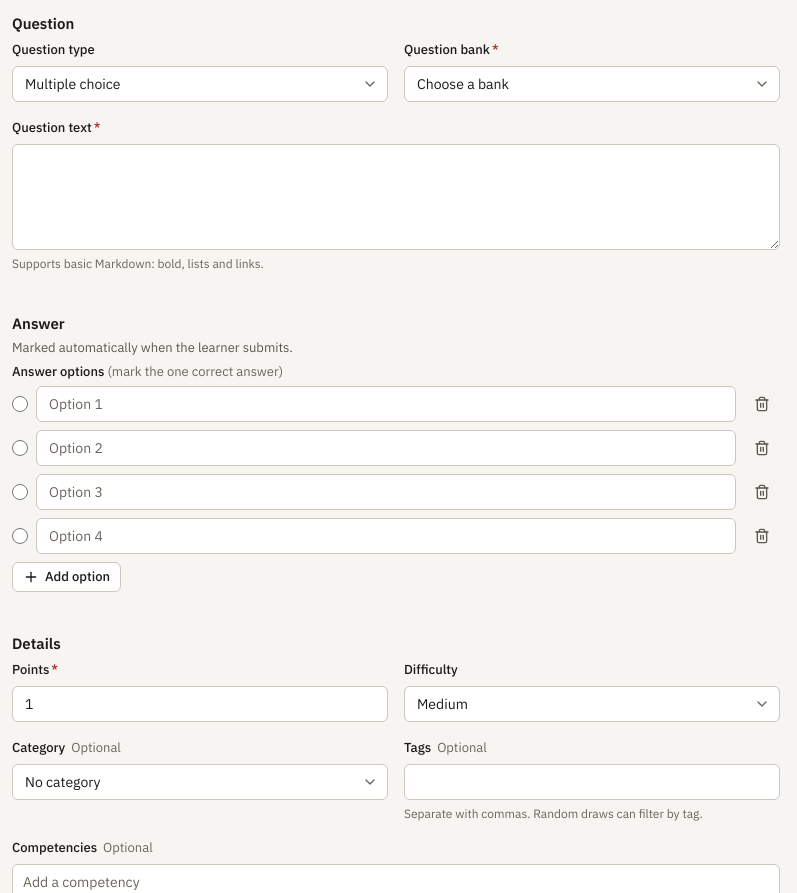
Test: creating a question › shows the scenario editor when that type is chosen
Select "Scenario" in the dropdown labelled "Question type" at (200,84), box [12,66,388,102]
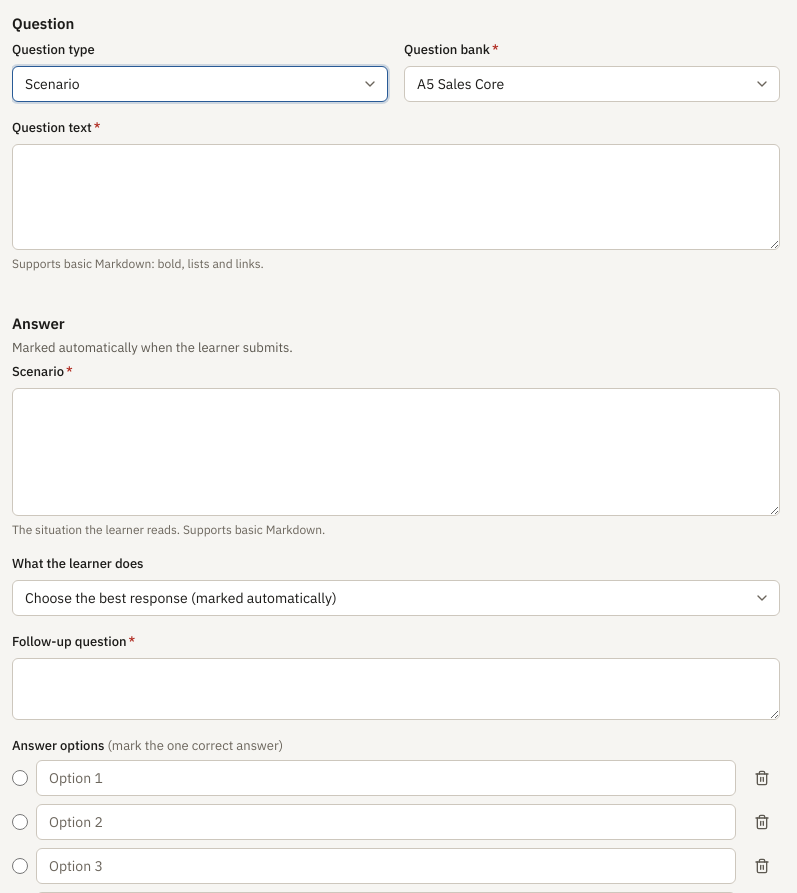
Expected: the text "What the learner does" is shown, [12,555,144,572]
